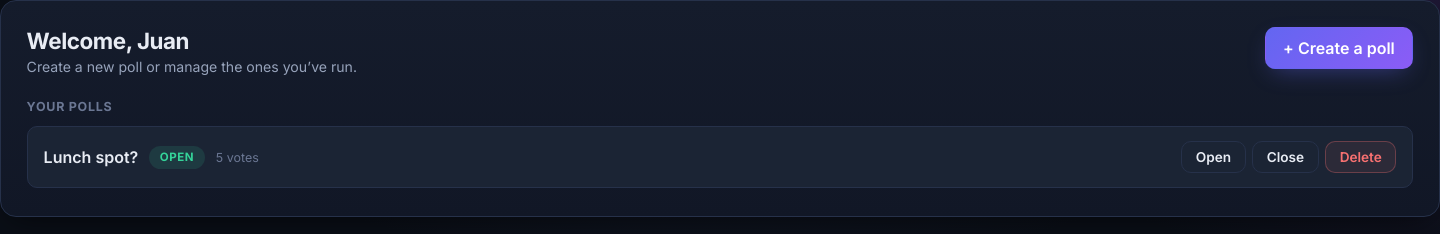
Profile › closes an open poll from the row
Click the button with aria-label "Close poll: Lunch spot?" at (1285, 157), box [1252, 141, 1319, 173]
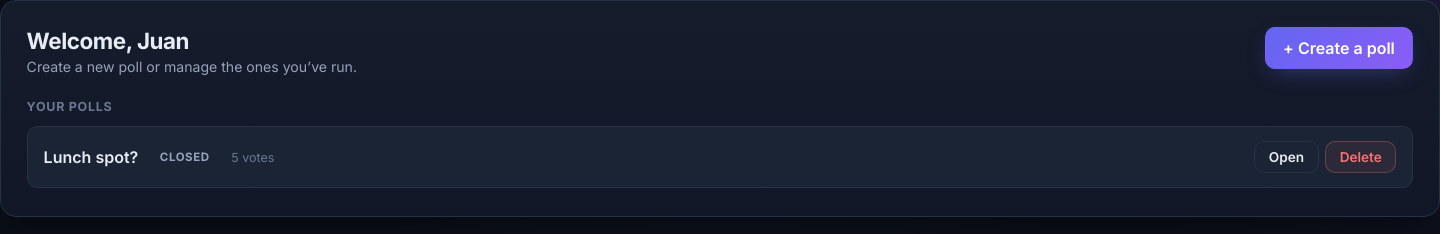
Expected: the text "Closed" is shown, [149, 146, 220, 169]
